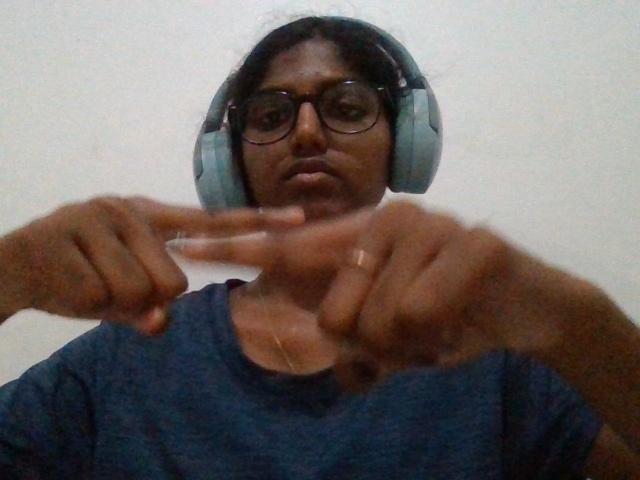Sign: (5, 137, 618, 403)
